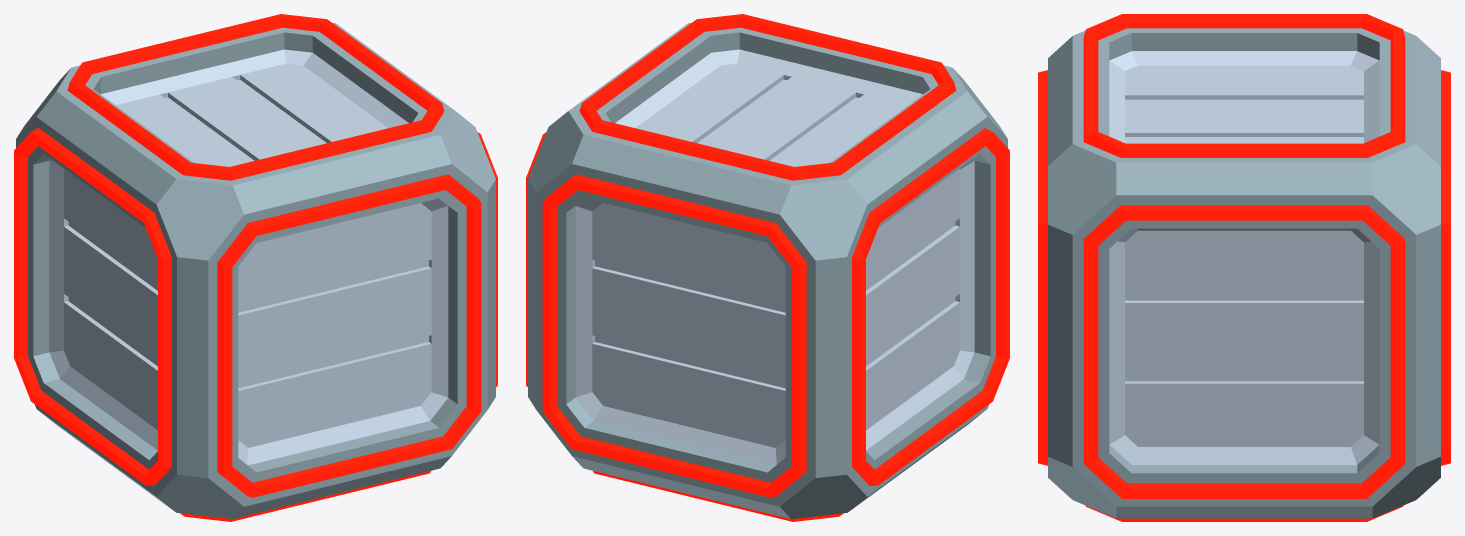
3 renders of one model, left to right at view 1: azimuth 30°, elevation 25°; view 2: azimuth 150°, elevation 25°; view 3: azimuth 270°, elevation 25°, orthographic. The views are drawn at different scales.
Parts seen in each view (by area): view 1: 立方体.035; view 2: 立方体.035; view 3: 立方体.035.
Part boxes in pixels (x1,y1,x2,y2): 立方体.035: [14, 14, 497, 521]; 立方体.035: [526, 14, 1009, 521]; 立方体.035: [1038, 14, 1450, 521].
Size of the model in its own units: 105 by 105 by 105.
